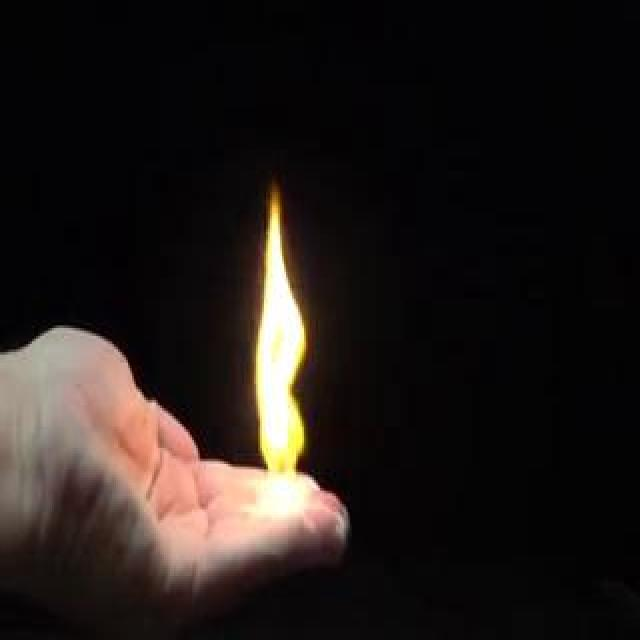Fire: (251, 283, 307, 528)
